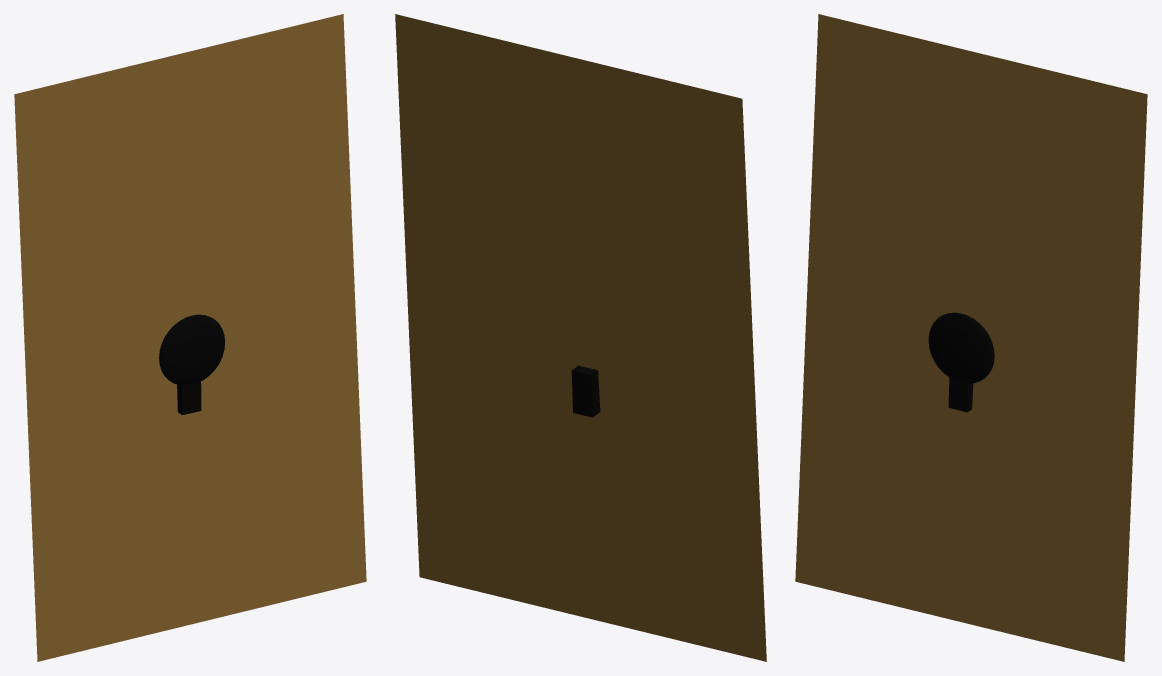
File: door.fbx
3 renders of one model, left to right at view 1: azimuth 30°, elevation 25°; view 2: azimuth 150°, elevation 25°; view 3: azimuth 330°, elevation 25°, orthographic. The views are drawn at different scales.
Parts seen in each view (by area): view 1: Sphere; view 2: Sphere; view 3: Sphere.
Boxes of the visible parts, box(x1,y1,x2,y2) form: Sphere: box(14, 14, 366, 661); Sphere: box(395, 14, 766, 661); Sphere: box(795, 14, 1147, 661).
Bounding box in the file's own units: 8407 × 13443 × 1023.
